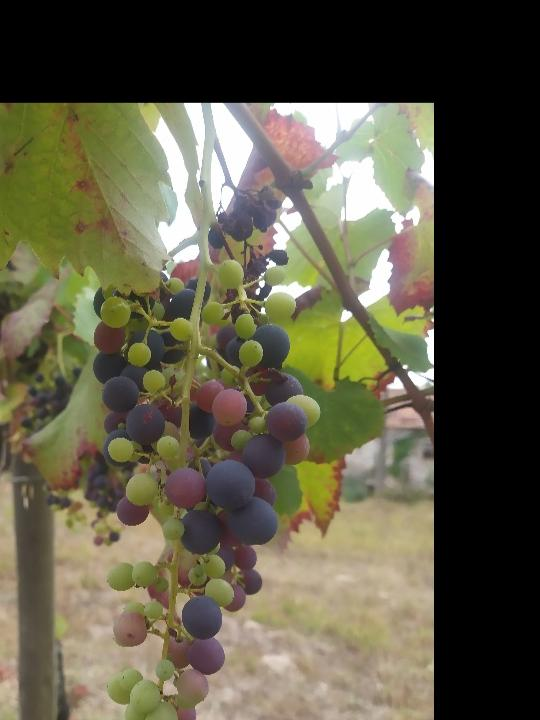grape: (84, 184, 324, 720)
